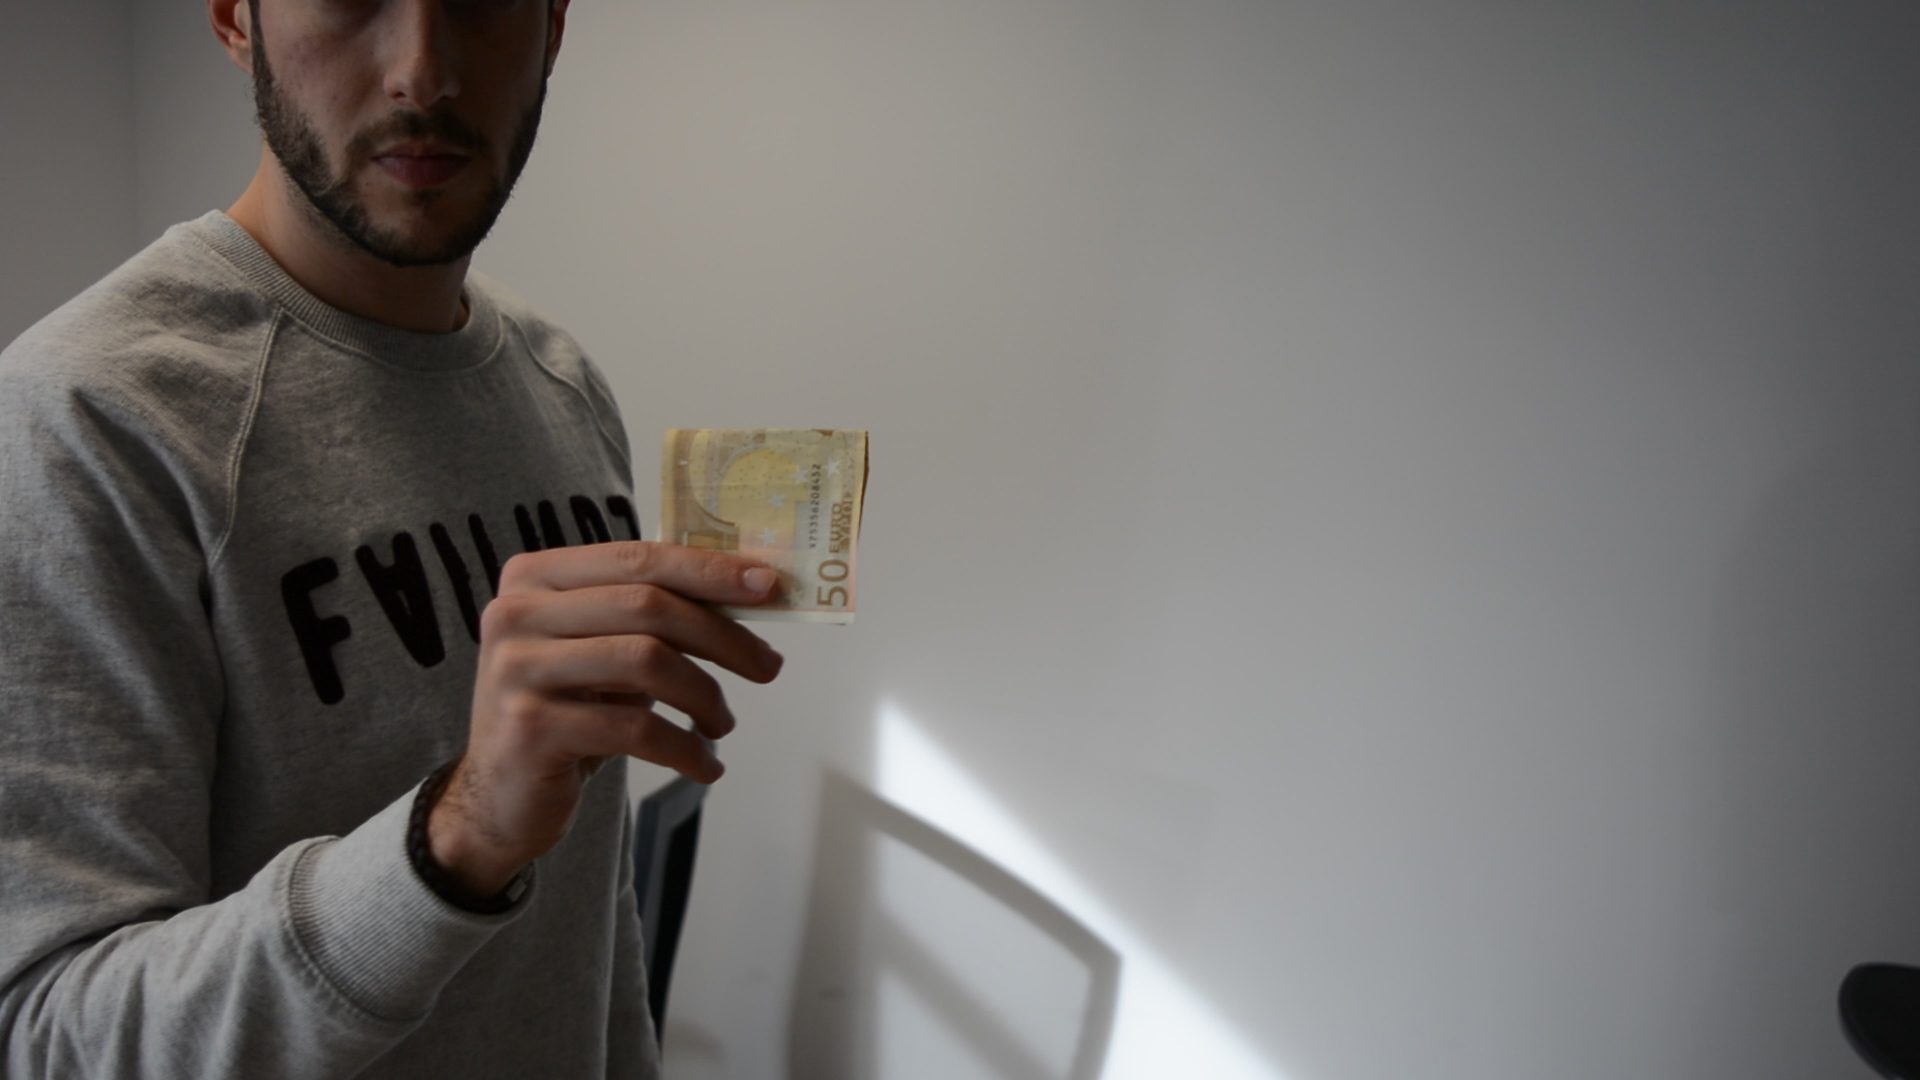billete: (655, 429, 872, 628)
